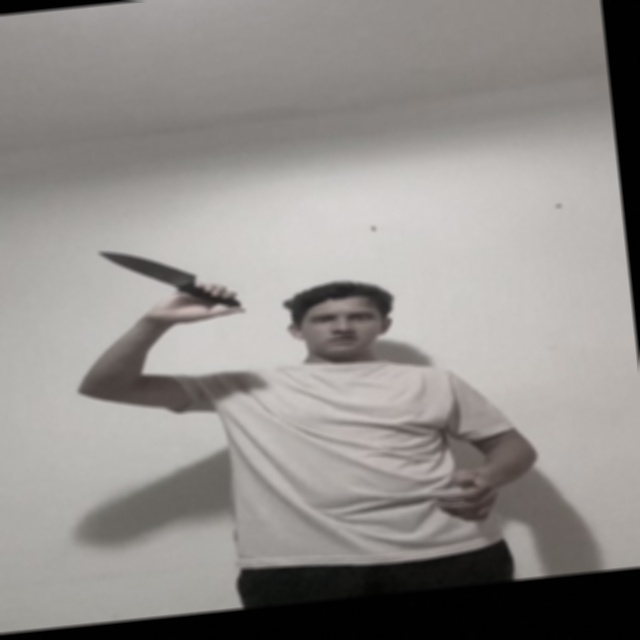Sharp-Object: (102, 240, 193, 290)
